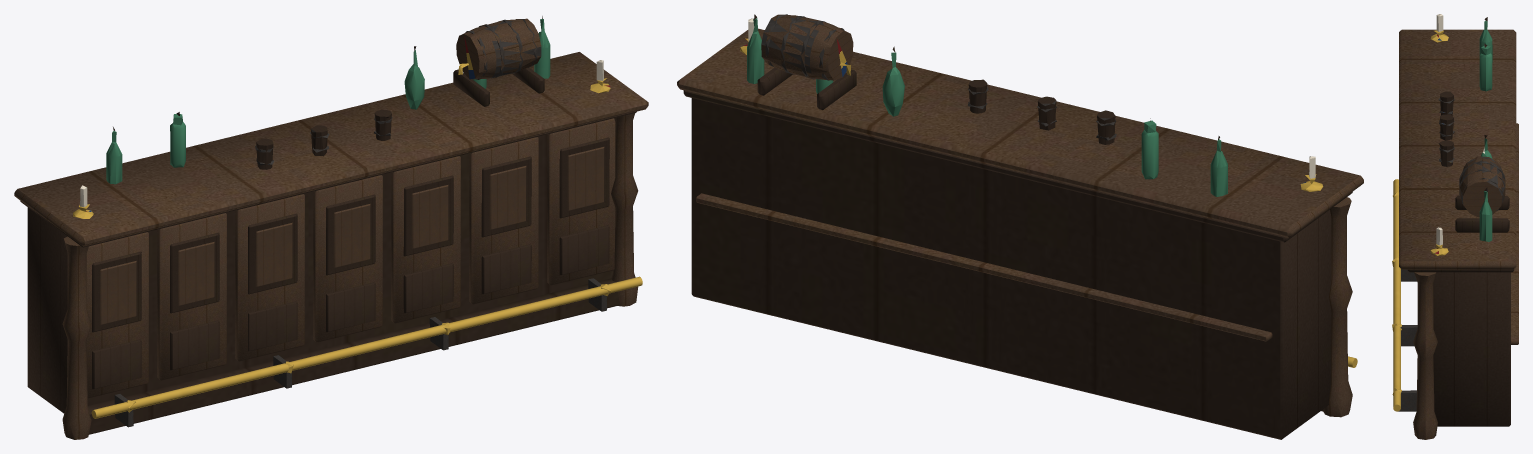
The model's file is bar_counter_lod1.glb.
3 views of the same model, side by side, from view 1: azimuth 30°, elevation 25°; view 2: azimuth 150°, elevation 25°; view 3: azimuth 270°, elevation 25° (orthographic). The views are drawn at different scales.
Parts seen in each view (by area): view 1: bar_counter; view 2: bar_counter; view 3: bar_counter.
Boxes of the visible parts, x1=… form: bar_counter: x1=14, y1=16, x2=648, y2=439; bar_counter: x1=677, y1=14, x2=1363, y2=439; bar_counter: x1=1392, y1=14, x2=1518, y2=439.
Size of the model in its own units: 3.14 by 1.44 by 0.7132.
1 material, 1 textured.
